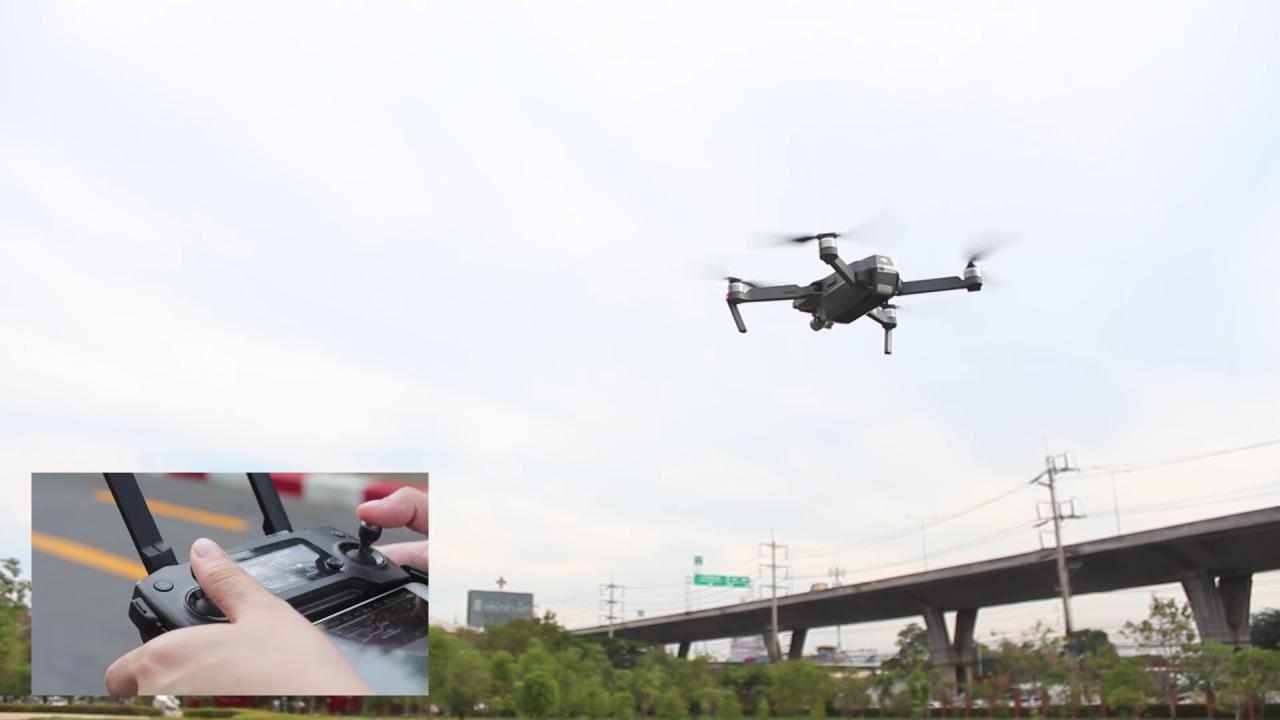Drone: (686, 200, 1044, 365)
